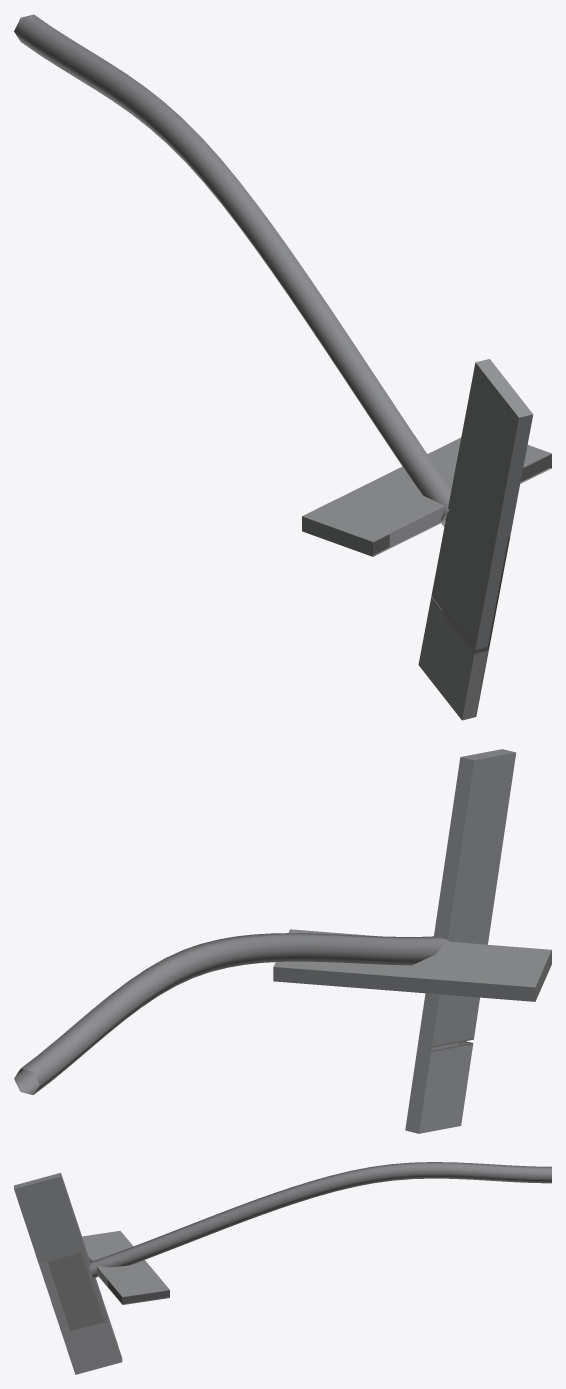
3 renders of one model, top to bottom at view 1: azimuth 30°, elevation 25°; view 2: azimuth 150°, elevation 25°; view 3: azimuth 270°, elevation 25°, orthographic. The views are drawn at different scales.
Size of the model in its own units: 0.5281 by 0.7771 by 1.81.
